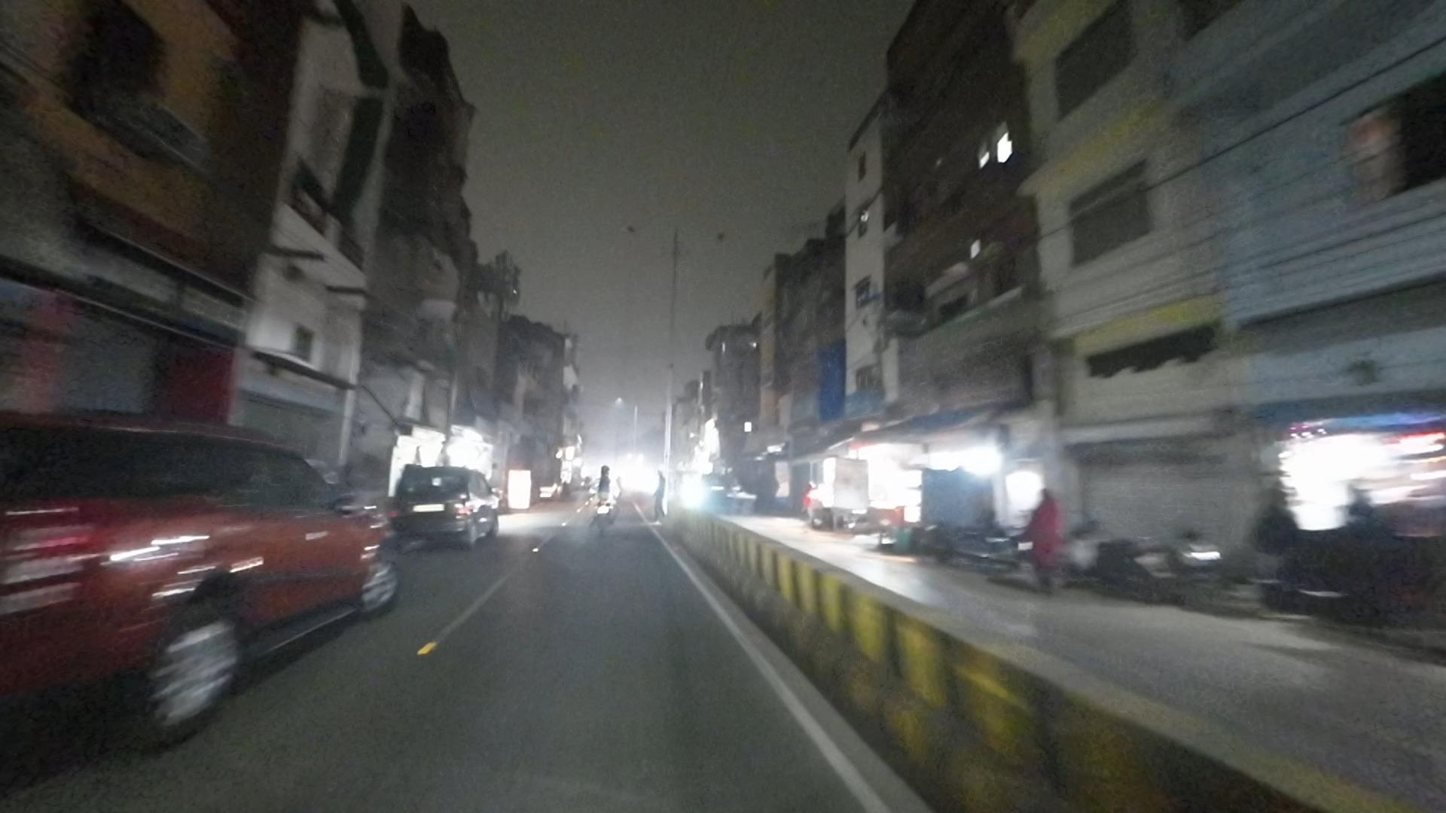streetlight: (625, 221, 665, 243), (686, 229, 729, 245)
